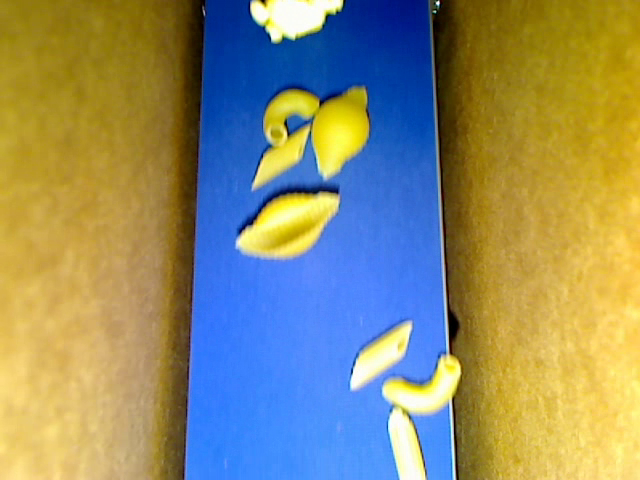elbow: (379, 352, 461, 416), (263, 89, 320, 148)
penne: (348, 320, 413, 392), (250, 124, 310, 190), (386, 406, 427, 479)
shell: (234, 190, 340, 259), (310, 85, 369, 180)
